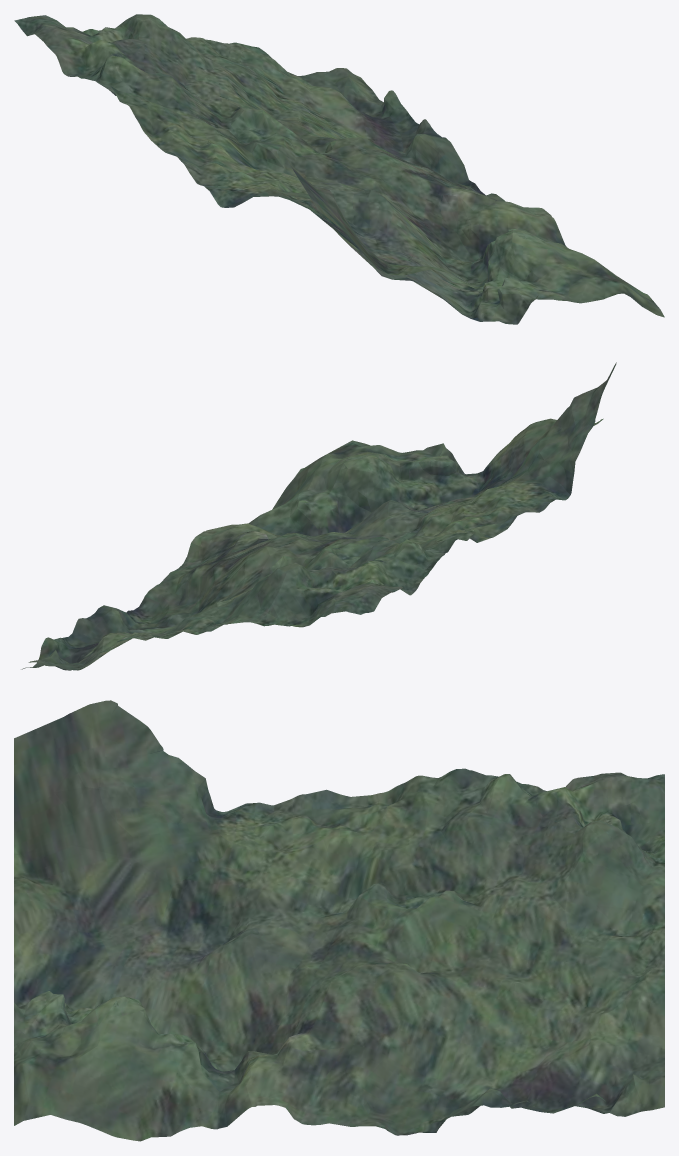
The model's file is Tile__006__000_L21_0001200.glb.
3 views of the same model, one above another, from view 1: azimuth 30°, elevation 25°; view 2: azimuth 150°, elevation 25°; view 3: azimuth 270°, elevation 25° (orthographic). The views are drawn at different scales.
Parts seen in each view (by area): view 1: root; view 2: root; view 3: root.
Part boxes in pixels (box(x1,y1,x2,y2)): root: box(14, 14, 664, 324); root: box(21, 362, 616, 670); root: box(14, 700, 664, 1141).
Size of the model in its own units: 15.5 by 10.34 by 23.51.
Materials: 1 (1 with a texture image).
